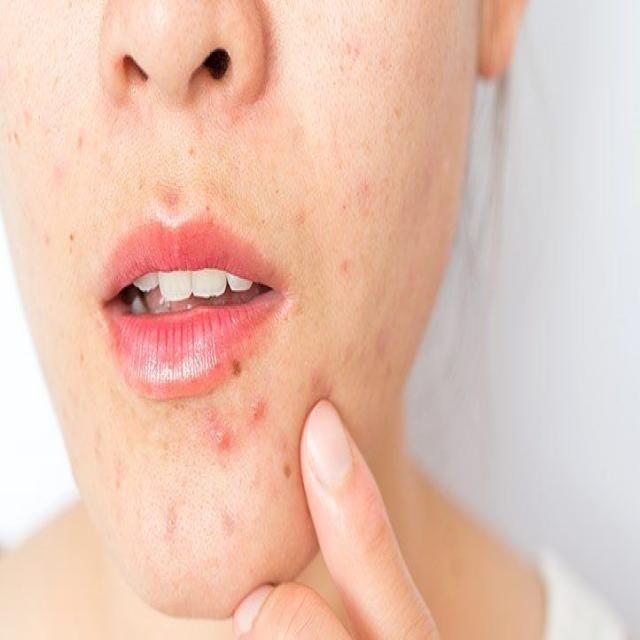Acne: (210, 402, 275, 452)
